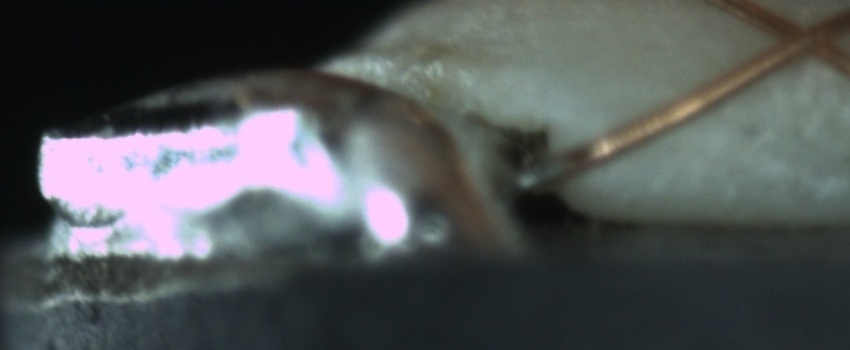CL: (751, 3, 844, 70)
TS: (512, 145, 574, 195)
